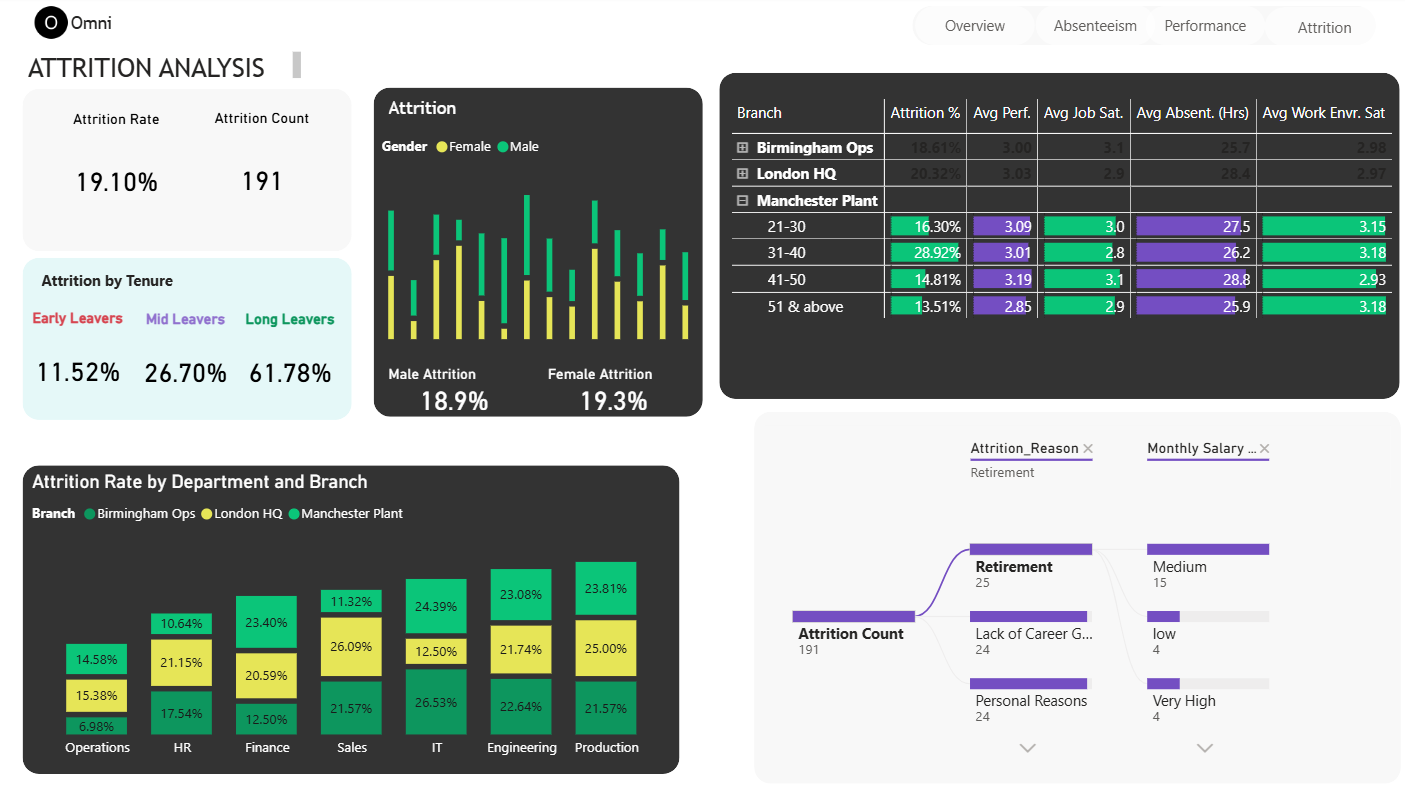

This screenshot's page, from the dashboard's own definition file:
{"tool":"powerbi","page":{"name":"ATTRITION","canvas":[1280,720],"ordinal":1},"visuals":[{"type":"shape","box":[22.5,237.4,298.2,147.1],"z":0},{"type":"shape","box":[22.5,85,298.2,147.1],"z":1000},{"type":"shape","box":[654.8,70.3,616.4,295.6],"z":2000},{"type":"shape","box":[340.7,83.5,298.2,298.2],"z":3000},{"type":"shape","box":[22.5,425.5,595.2,279.7],"z":4000},{"type":"shape","box":[685.3,377.8,586,337],"z":5000},{"type":"textbox","box":[62.3,10.6,186.9,49],"z":6000},{"type":"textbox","box":[22.5,46.4,257.1,35.8],"z":7000},{"type":"image","box":[26.5,4,45.1,42.4],"z":8000},{"type":"textbox","box":[349.3,86.9,188.2,30.5],"z":9000},{"type":"columnChart","fields":{"Category":["Omni_Employee_HR_Dataset.Hire_Date.Variation.Date Hierarchy.Year","Omni_Employee_HR_Dataset.Hire_Date.Variation.Date Hierarchy.Quarter","Omni_Employee_HR_Dataset.Hire_Date.Variation.Date Hierarchy.Month","Omni_Employee_HR_Dataset.Hire_Date.Variation.Date Hierarchy.Day"],"Series":["Omni_Employee_HR_Dataset.Gender"],"Y":["Attrition Measures.Attrition Rate"]},"box":[344,117.4,292.9,200.2],"z":10000},{"type":"card","title":"Male Attrition","fields":{"Values":["Attrition Measures.Male Attrition Rate (%)"]},"box":[349.3,334.8,128.6,46.4],"z":11000},{"type":"card","title":"Female Attrition","fields":{"Values":["Attrition Measures.Female Attrition Rate (%)"]},"box":[493.7,334.8,128.6,46.4],"z":12000},{"type":"columnChart","fields":{"Category":["Omni_Employee_HR_Dataset.Department","Omni_Employee_HR_Dataset.Job_Role"],"Series":["Omni_Employee_HR_Dataset.Branch"],"Y":["Attrition Measures.Attrition Rate"]},"box":[26.5,430.8,589.8,269.1],"z":13000},{"type":"pivotTable","fields":{"Rows":["Omni_Employee_HR_Dataset.Branch","Omni_Employee_HR_Dataset.Age Range"],"Values":["Attrition Measures.Attrition Rate","Performance Measures.Avg Performance","Performance Measures.Avg Job Satisfaction","Absenteeism Measures.Avg Absenteeism (Hrs)","Performance Measures.Avg Work Envr. Sat"]},"box":[660.1,88.8,611.1,289],"z":14000},{"type":"shape","box":[829.2,9.1,420.2,35.8],"z":15000},{"type":"actionButton","box":[831.8,9.1,108.7,35.8],"z":16000},{"type":"actionButton","box":[940.5,8.5,108.7,37.1],"z":17000},{"type":"actionButton","box":[1039.9,9.1,108.7,35.8],"z":18000},{"type":"actionButton","box":[1148.2,10.6,108.7,35.8],"z":19000},{"type":"card","title":"Attrition Rate","fields":{"Values":["Attrition Measures.Attrition Rate"]},"box":[35.8,104.8,145.8,111.3],"z":20000},{"type":"card","title":"Attrition Count","fields":{"Values":["Attrition Measures.Attrition Count"]},"box":[172.3,103.5,135.2,111.3],"z":21000},{"type":"card","title":"Long Leavers","fields":{"Values":["Attrition Measures.Long Leavers(%)"]},"box":[220,285.1,91.5,95.4],"z":22000},{"type":"card","title":"Early Leavers","fields":{"Values":["Attrition Measures.Early Leavers(%)"]},"box":[26.5,283.8,92.8,96.8],"z":23000},{"type":"card","title":"Mid Leavers","fields":{"Values":["Attrition Measures.Mid Leavers(%)"]},"box":[124.6,285.1,91.5,95.4],"z":24000},{"type":"textbox","box":[35.8,244,188.2,30.5],"z":25000},{"type":"decompositionTreeVisual","fields":{"Analyze":["Attrition Measures.Attrition Count"],"ExplainBy":["Omni_Employee_HR_Dataset.Attrition_Reason","Omni_Employee_HR_Dataset.Monthly Salary Range"]},"box":[690.6,384.4,576.6,320.8],"z":26000}]}

Visuals, with their boxes in screenshot pixels (x1, y1, x2, y2), scaled from the page's 1280x720 canvas onto the 1405x786 screenshot:
shape: 25,259,352,420
shape: 25,93,352,253
shape: 719,77,1395,399
shape: 374,91,701,417
shape: 25,465,678,770
shape: 752,412,1395,780
textbox: 68,12,274,65
textbox: 25,51,307,90
image: 29,4,79,51
textbox: 383,95,590,128
columnChart - Omni_Employee_HR_Dataset.Hire_Date.Variation.Date Hierarchy.Year x Omni_Employee_HR_Dataset.Hire_Date.Variation.Date Hierarchy.Quarter: 378,128,699,347
"Male Attrition" card: 383,365,525,416
"Female Attrition" card: 542,365,683,416
columnChart - Omni_Employee_HR_Dataset.Department x Omni_Employee_HR_Dataset.Job_Role: 29,470,676,764
pivotTable - Omni_Employee_HR_Dataset.Branch x Omni_Employee_HR_Dataset.Age Range: 725,97,1395,412
shape: 910,10,1371,49
actionButton: 913,10,1032,49
actionButton: 1032,9,1152,50
actionButton: 1141,10,1261,49
actionButton: 1260,12,1380,51
"Attrition Rate" card: 39,114,199,236
"Attrition Count" card: 189,113,338,234
"Long Leavers" card: 241,311,342,415
"Early Leavers" card: 29,310,131,415
"Mid Leavers" card: 137,311,237,415
textbox: 39,266,246,300
decompositionTreeVisual - Attrition Measures.Attrition Count x Omni_Employee_HR_Dataset.Attrition_Reason: 758,420,1391,770
